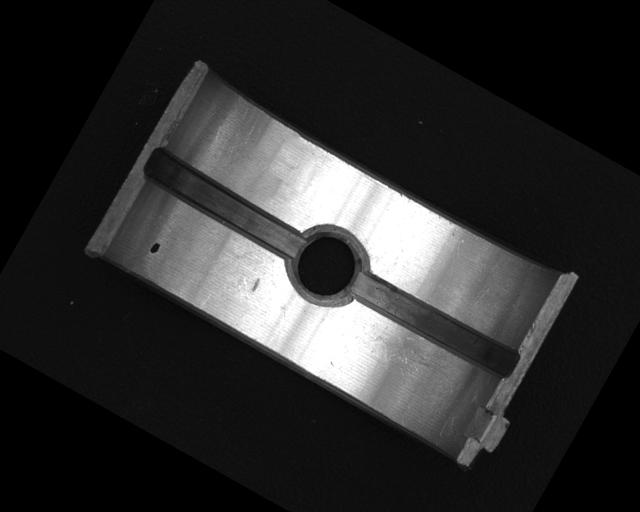blot: (148, 239, 162, 255)
bruise: (249, 276, 262, 293)
gap: (344, 263, 523, 386), (138, 147, 308, 263)
hole: (273, 211, 380, 320)
scratch: (356, 310, 475, 404)
